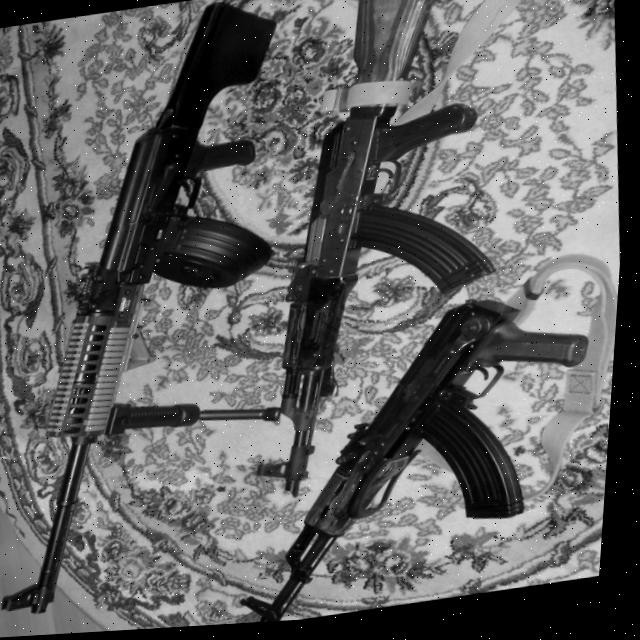firearm: (0, 0, 326, 621), (220, 0, 528, 507), (225, 292, 617, 628)
